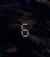six: (19, 20, 29, 36)
